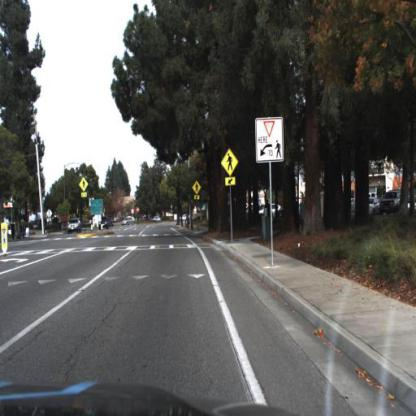car: (64, 214, 84, 241), (120, 212, 138, 227), (97, 215, 111, 232)
